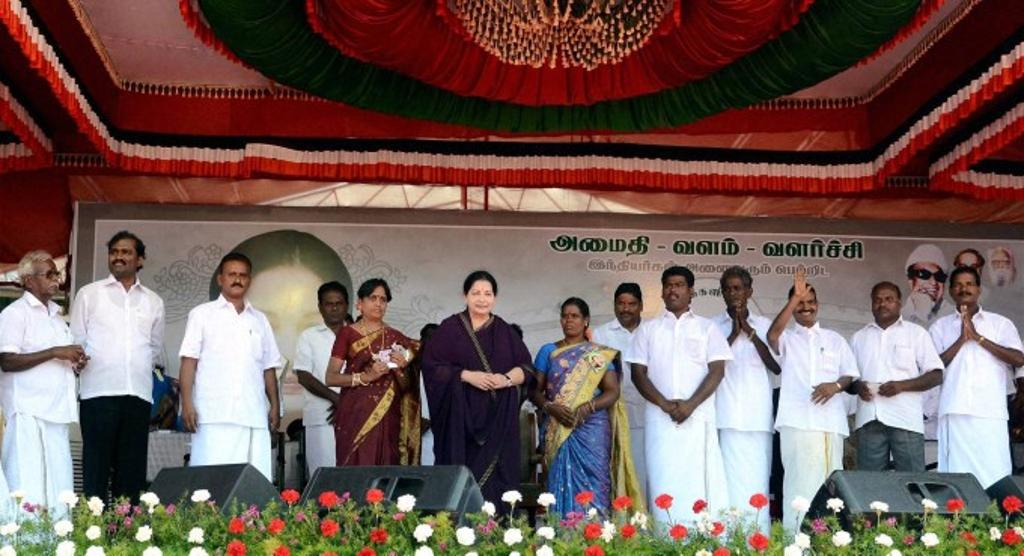face: (913, 264, 945, 309), (109, 244, 138, 273), (32, 264, 60, 294), (790, 295, 817, 323), (468, 284, 494, 313), (223, 267, 250, 294), (664, 279, 690, 307), (872, 291, 898, 318), (363, 290, 388, 318), (321, 294, 346, 322), (723, 280, 747, 308), (952, 277, 979, 301), (561, 308, 585, 335), (990, 253, 1012, 281), (615, 297, 639, 322), (958, 259, 979, 284), (424, 333, 444, 353)
